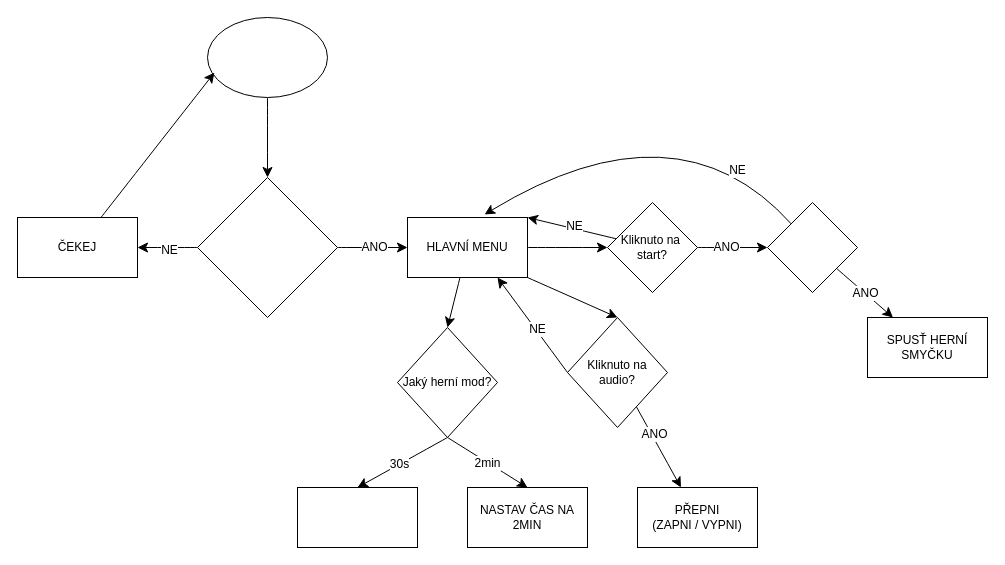
This 1005x565 diagram has some shape labels left out. Here are the shapes that lost their labels. From the top down, the centre of each, then its label:
pixel 267 57: ZAPNUTÍ HRY (uvodní menu)
pixel 267 247: Byla stisknuta klávesa SPACE?
pixel 812 247: Je zadané jméno?
pixel 357 517: NASTAV ČAS NA 30S
